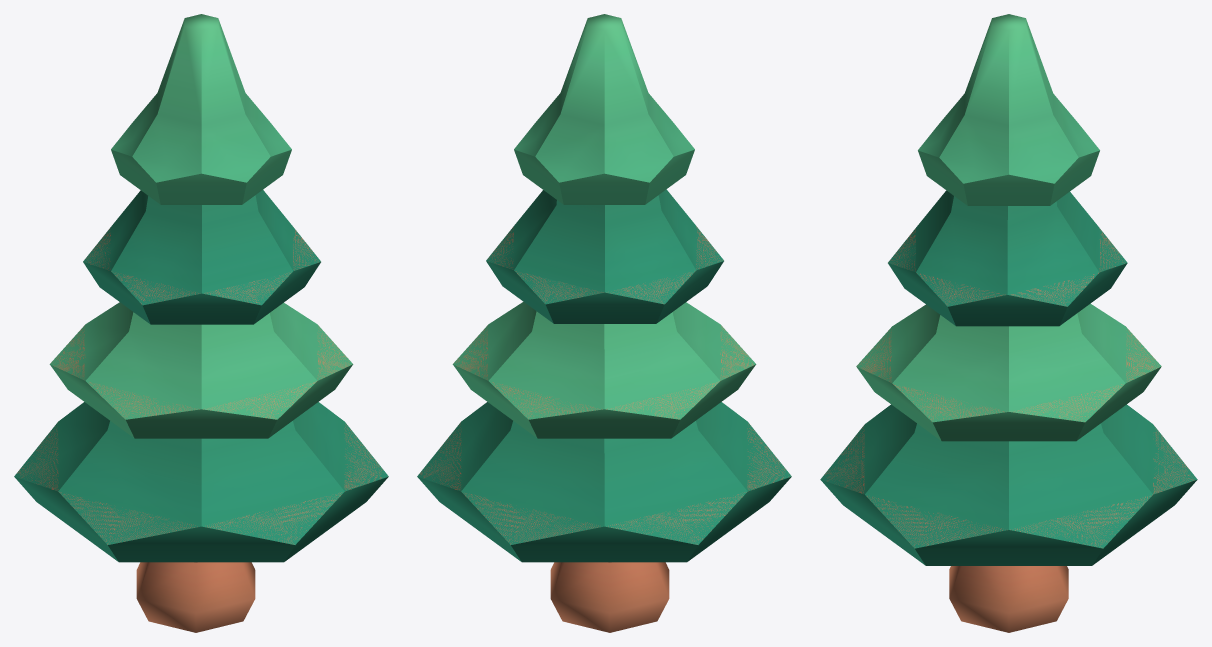
Rendered from pine.glb.
3 renders of one model, left to right at view 1: azimuth 30°, elevation 25°; view 2: azimuth 150°, elevation 25°; view 3: azimuth 270°, elevation 25°, orthographic.
Parts seen in each view (by area): view 1: pine; view 2: pine; view 3: pine.
Boxes of the visible parts, box(x1,y1,x2,y2) form: pine: box(14, 14, 388, 632); pine: box(417, 14, 791, 632); pine: box(820, 14, 1197, 632).
Bounding box in the file's own units: 1.18 × 2.3 × 1.33.
1 material, 1 textured.
